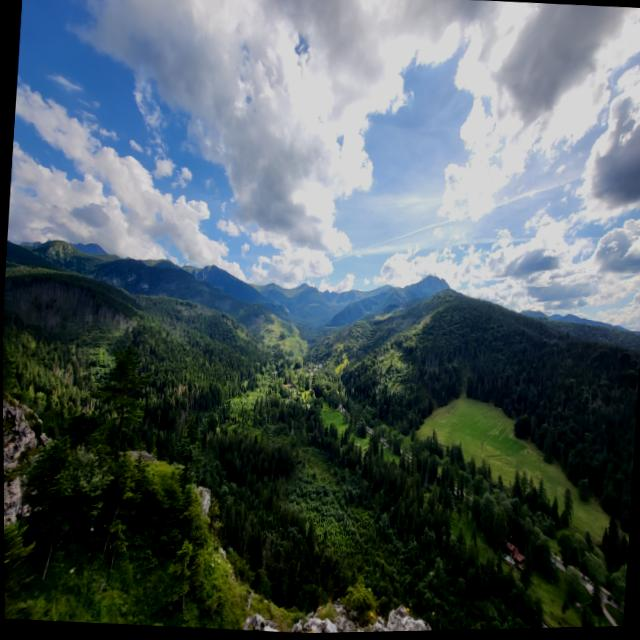Giewont: (390, 224, 484, 333)
Kasprowy Wierch: (174, 224, 258, 307)
Kopa Kondracka: (351, 246, 428, 330)
Swinica: (50, 199, 139, 292)
Uhrocie Kasprowe: (119, 212, 213, 307)
